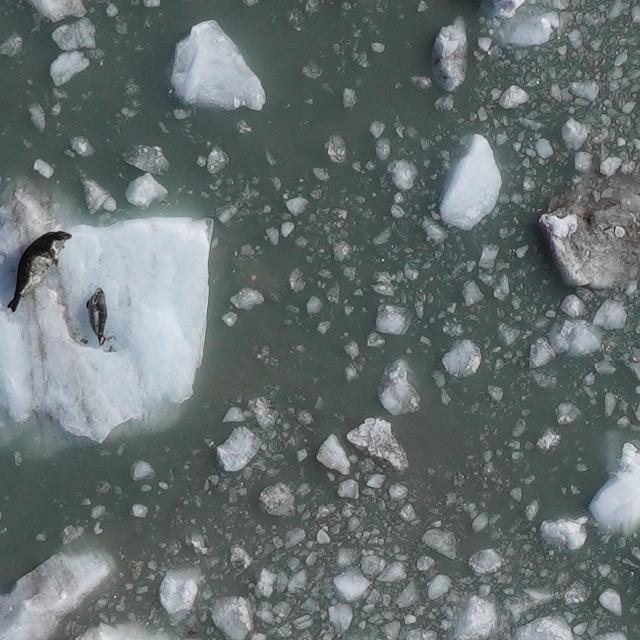seal: (0, 216, 77, 319), (84, 287, 110, 348)
